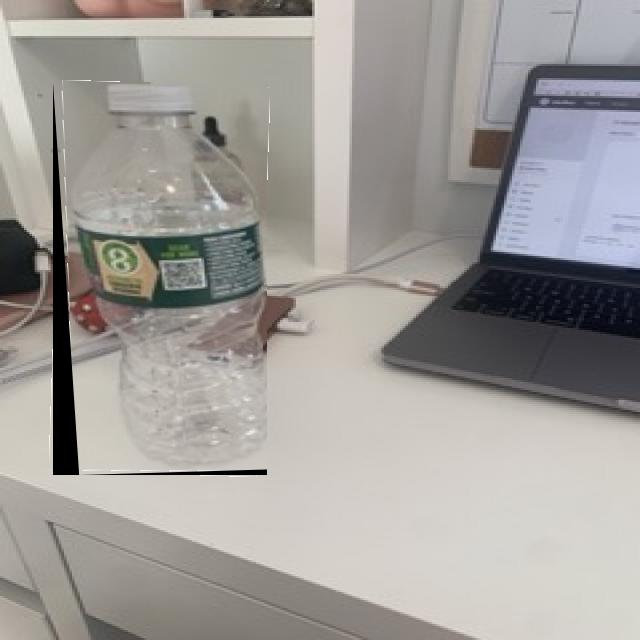water_bottle: (53, 82, 267, 475)
